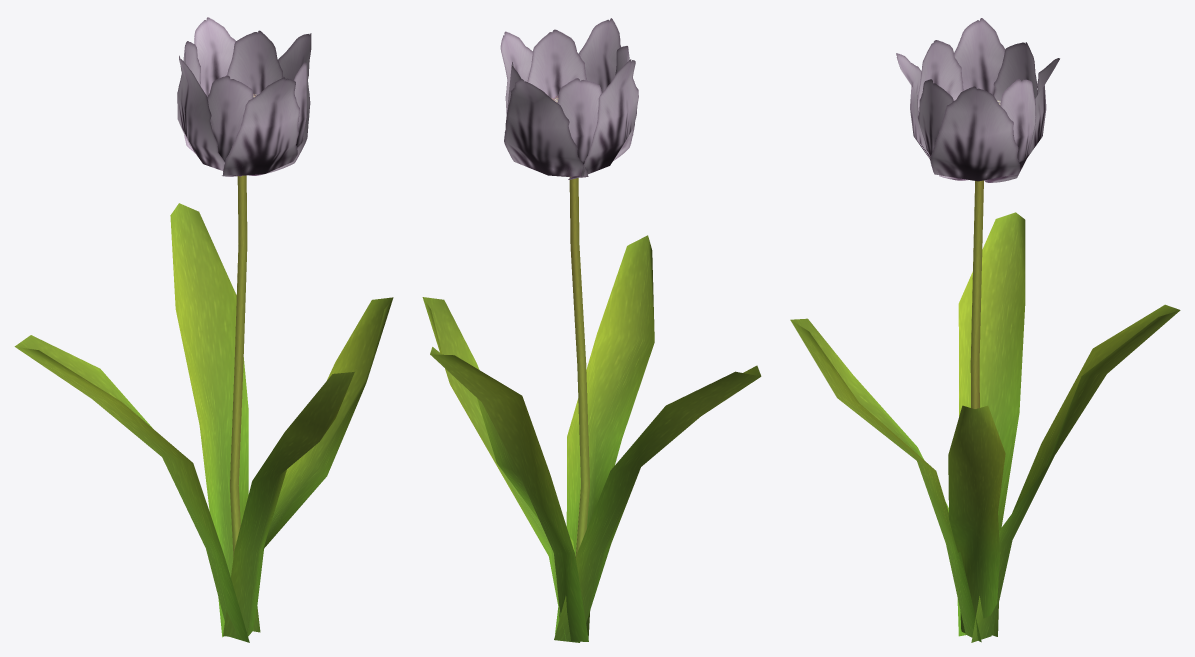
Rendered from m_flower27.fbx.
3 renders of one model, left to right at view 1: azimuth 30°, elevation 25°; view 2: azimuth 150°, elevation 25°; view 3: azimuth 270°, elevation 25°, orthographic.
Visible parts, largest first — view 1: mesh_flower27; view 2: mesh_flower27; view 3: mesh_flower27.
Part boxes in pixels (x1,y1,x2,y2): mesh_flower27: (14,17,393,642); mesh_flower27: (422,18,761,642); mesh_flower27: (790,18,1180,642).
Bounding box in the file's own units: 0.2644 × 0.4208 × 0.251.
1 material, 1 textured.
